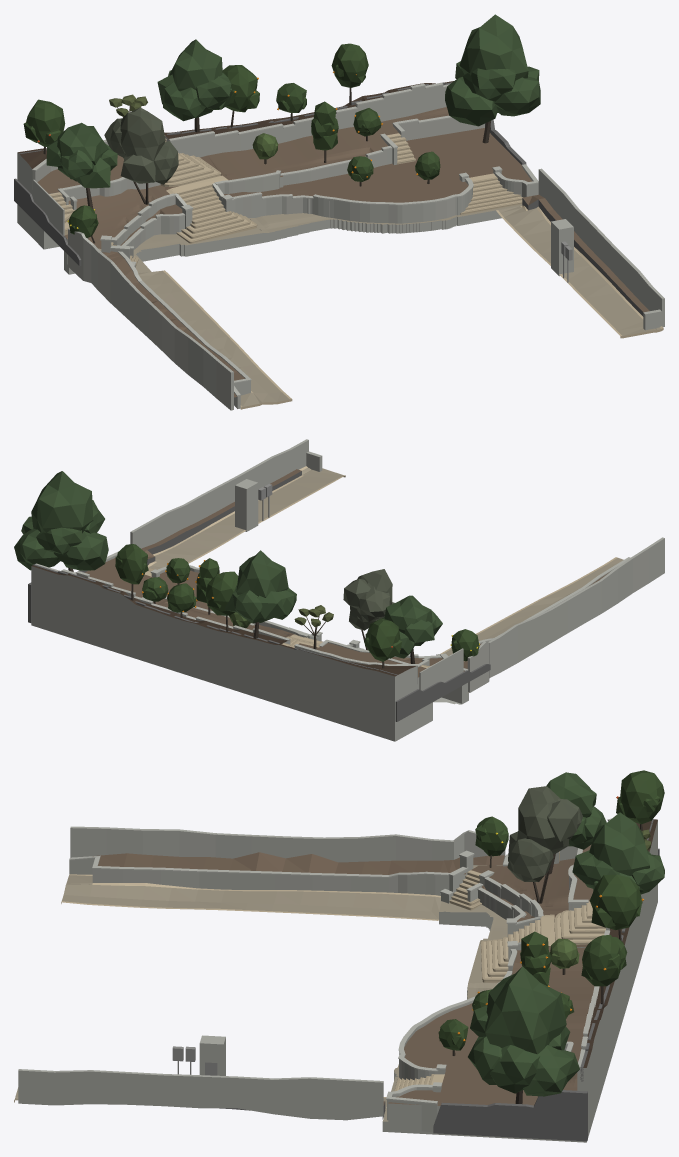
File: reconstruction-bae7db0d9796.glb
The picture shows the model from 3 angles, top to bottom: view 1: azimuth 30°, elevation 25°; view 2: azimuth 150°, elevation 25°; view 3: azimuth 270°, elevation 25°; orthographic projection. The views are drawn at different scales.
Visible parts, largest first — view 1: ground-terraces, planting-tree-14, wall-west-side-boundary, ground-side-west, wall-wa, ground-side-east, wall-we, planting-tree-03, planting-tree-01, wall-east-side-boundary, wall-wb, planting-tree-02 (+23 smaller); view 2: ground-terraces, wall-west-side-boundary, planting-tree-14, wall-east-side-boundary, ground-side-east, planting-tree-03, planting-tree-01, planting-tree-02, ground-side-west, slot-filler-west, planter-fill-east-side, planting-tree-15 (+12 smaller); view 3: ground-terraces, ground-side-west, wall-east-side-boundary, planting-tree-14, wall-west-side-boundary, wall-west-side-retaining, slot-filler-east, planting-tree-01, planting-tree-03, planting-tree-04, planting-tree-02, planting-tree-15 (+15 smaller).
Boxes of the visible parts, x1,y1,x2,y2 form: ground-terraces: [17, 81, 532, 274]; planting-tree-14: [445, 14, 540, 143]; wall-west-side-boundary: [68, 229, 233, 410]; ground-side-west: [102, 251, 292, 409]; wall-wa: [87, 167, 538, 249]; ground-side-east: [496, 205, 663, 338]; wall-we: [170, 85, 446, 156]; planting-tree-03: [157, 39, 232, 132]; planting-tree-01: [104, 107, 178, 204]; wall-east-side-boundary: [538, 168, 664, 330]; wall-wb: [117, 118, 484, 245]; planting-tree-02: [46, 122, 117, 208]; ground-terraces: [31, 558, 468, 741]; wall-west-side-boundary: [467, 537, 664, 692]; planting-tree-14: [14, 471, 108, 571]; wall-east-side-boundary: [130, 439, 322, 548]; ground-side-east: [147, 466, 345, 569]; planting-tree-03: [225, 550, 296, 638]; planting-tree-01: [343, 569, 394, 650]; planting-tree-02: [382, 595, 442, 663]; ground-side-west: [440, 557, 623, 668]; slot-filler-west: [395, 664, 490, 721]; planter-fill-east-side: [141, 469, 301, 565]; planting-tree-15: [364, 618, 402, 668]; ground-terraces: [382, 819, 657, 1142]; ground-side-west: [61, 852, 504, 920]; wall-east-side-boundary: [18, 1069, 383, 1120]; planting-tree-14: [468, 966, 579, 1103]; wall-west-side-boundary: [70, 826, 505, 866]; wall-west-side-retaining: [69, 858, 449, 895]; slot-filler-east: [433, 1090, 587, 1141]; planting-tree-01: [507, 786, 582, 903]; planting-tree-03: [572, 812, 664, 894]; planting-tree-04: [589, 874, 643, 940]; planting-tree-02: [546, 772, 606, 874]; planting-tree-15: [616, 770, 664, 830].
Bounding box in the file's own units: 35.47 × 10.57 × 34.25.
